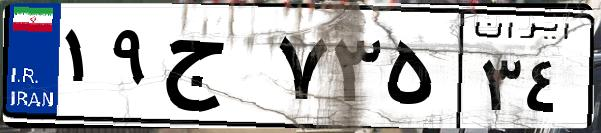1: (57, 26, 110, 100)
3: (330, 28, 385, 110), (475, 38, 525, 113)
4: (525, 38, 570, 115)
5: (385, 28, 445, 110)
7: (270, 28, 330, 110)
9: (110, 28, 158, 98)
ج: (158, 20, 270, 120)
